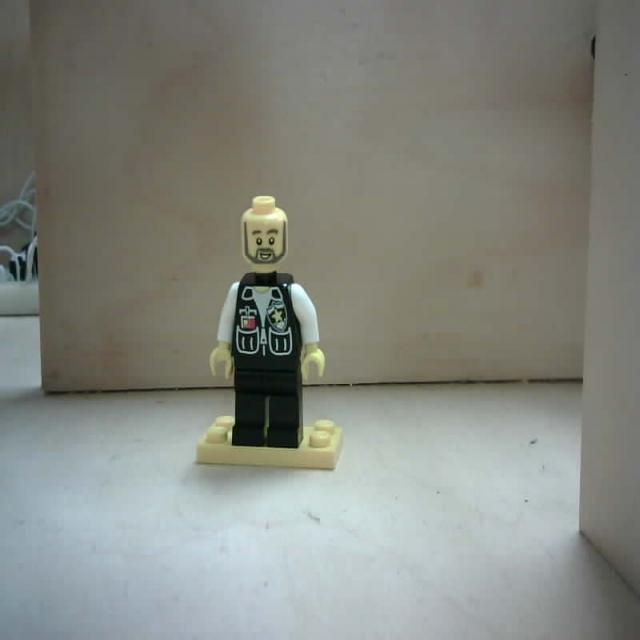Lego-People: (186, 191, 347, 483)
